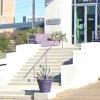stairs: (0, 42, 78, 92)
